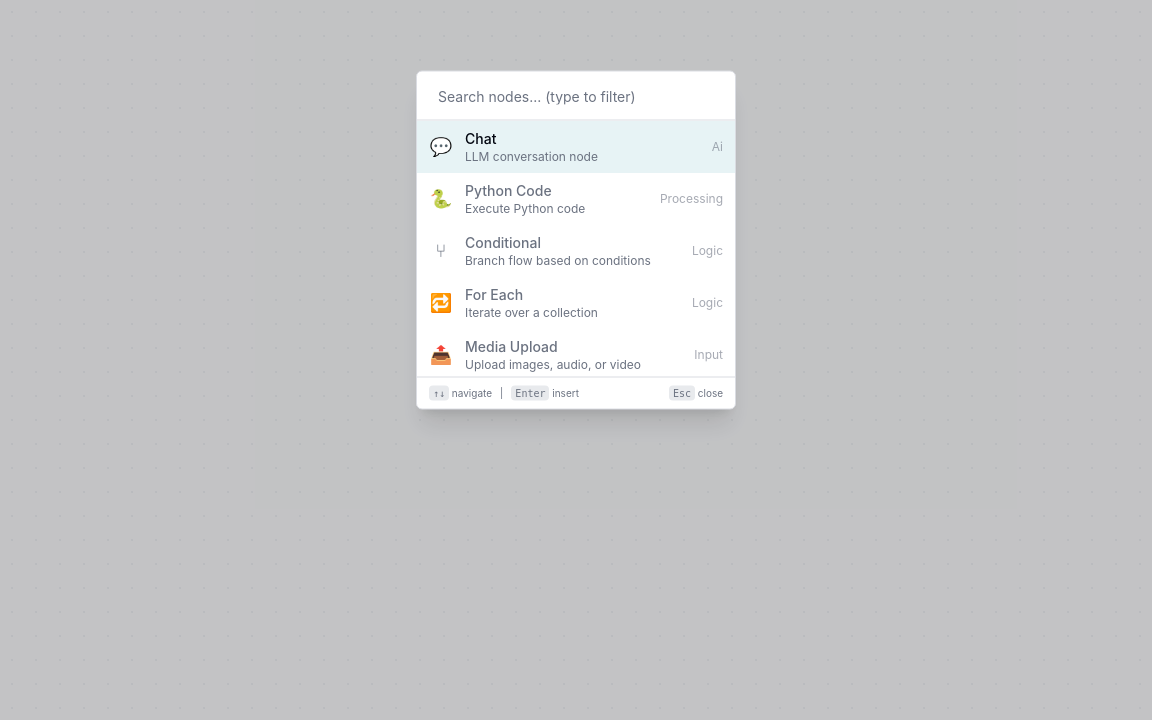
Test: QuickAddMenu › shows no results message for unmatched search
Type "xyznoexist" into the field with placeholder "Search nodes... (type to filter)".
click(576, 96); type("xyznoexist")  # box [425,80,727,112]
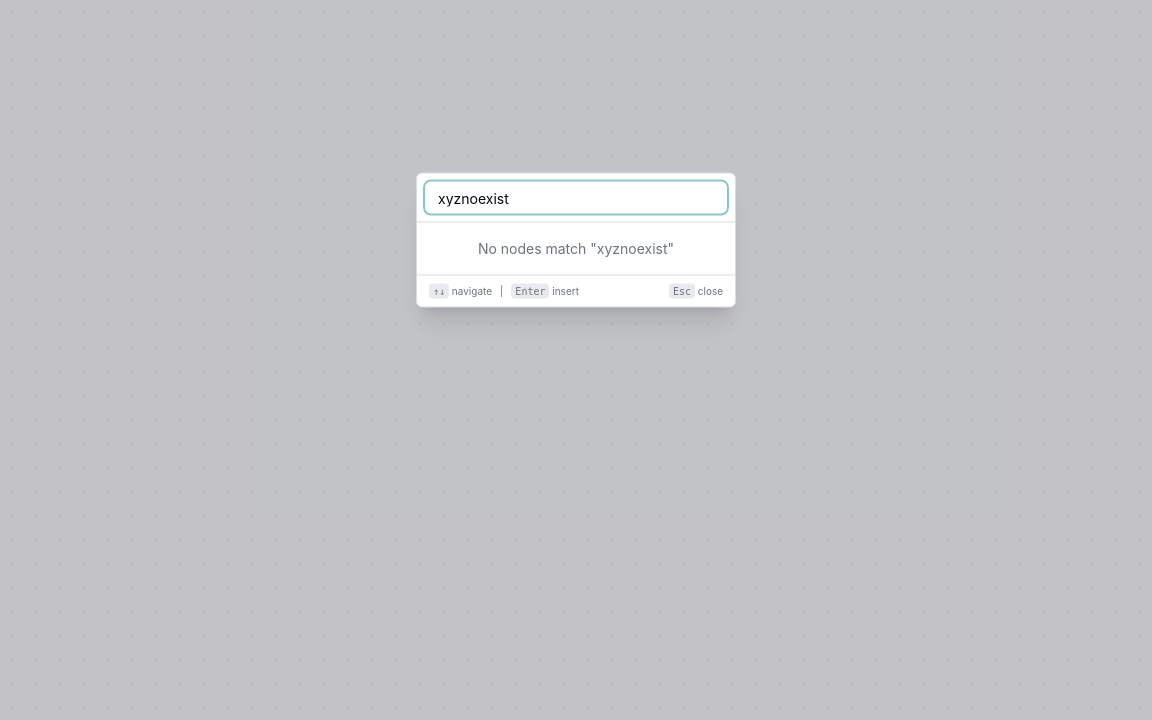
Expected: the text "No nodes match \"xyznoexist\"" is shown, [478,240,674,256]
